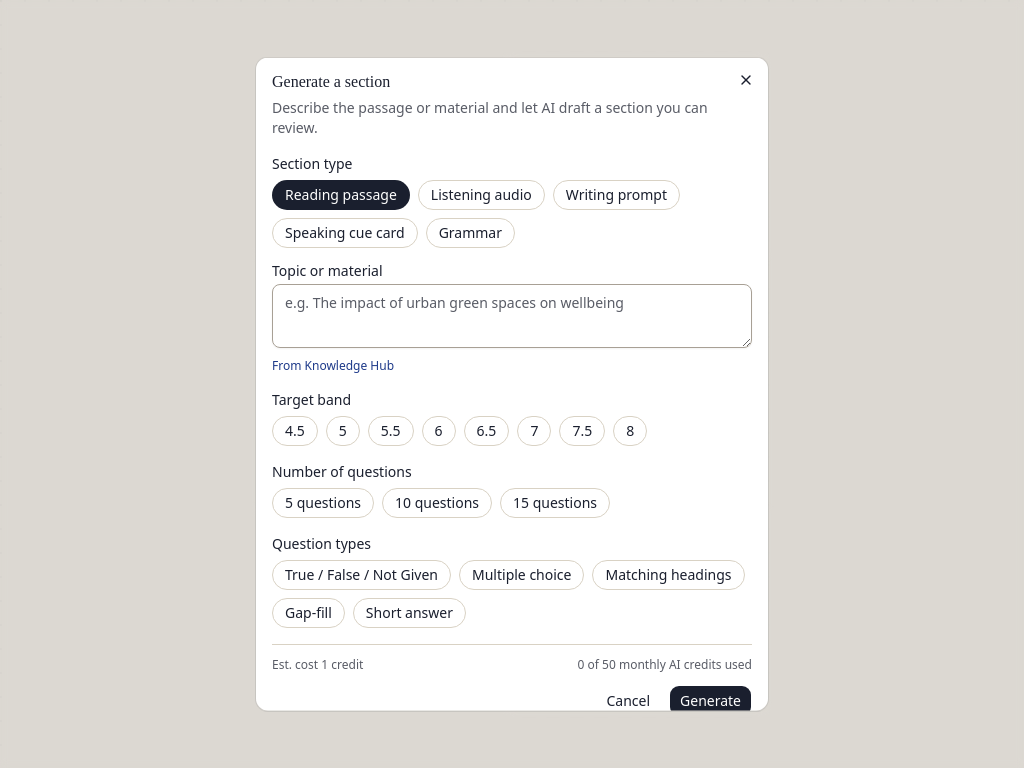
Scenario: AIGenerateDialog — config form (AC1, UX-1) › Writing/Speaking are prompt-only — the question count/mix chips hide
The image size is (1024, 768).
Expected: the button with test id "ai-question-count-5" is shown, [272,488,374,518]
Click the button with test id "ai-section-type-writing".
click(616, 195)  # box [553,180,680,210]
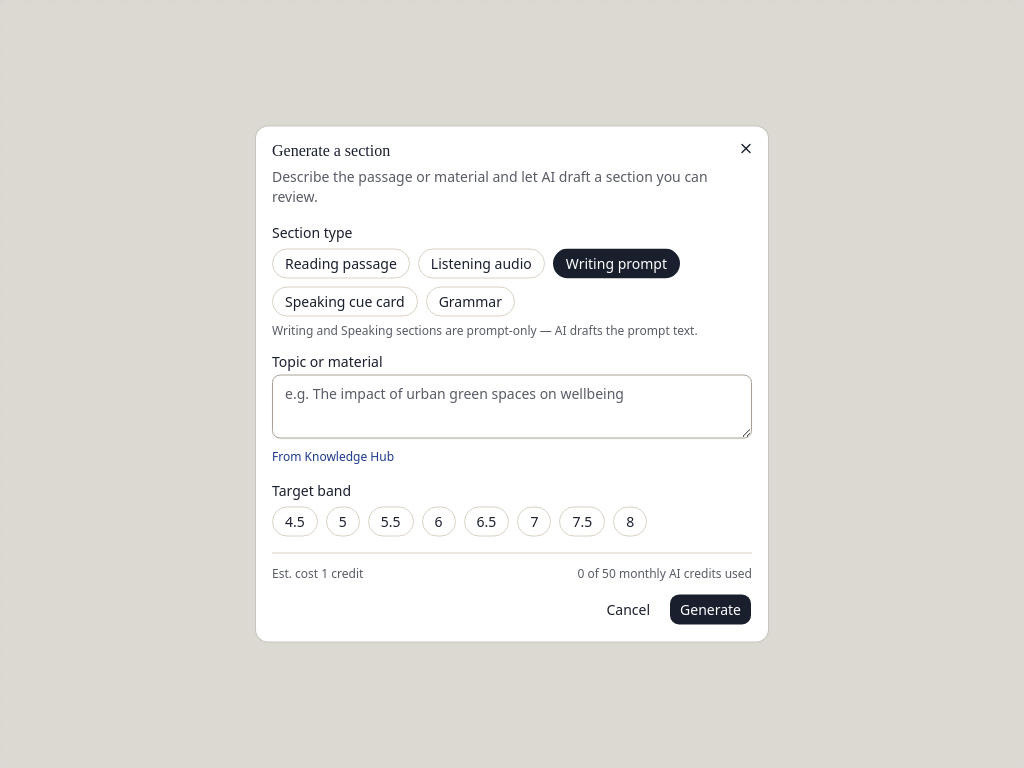
Result: the button with test id "ai-question-count-5" is gone
Result: the text with test id "ai-prompt-only-hint" is shown at [272,322,752,338]
